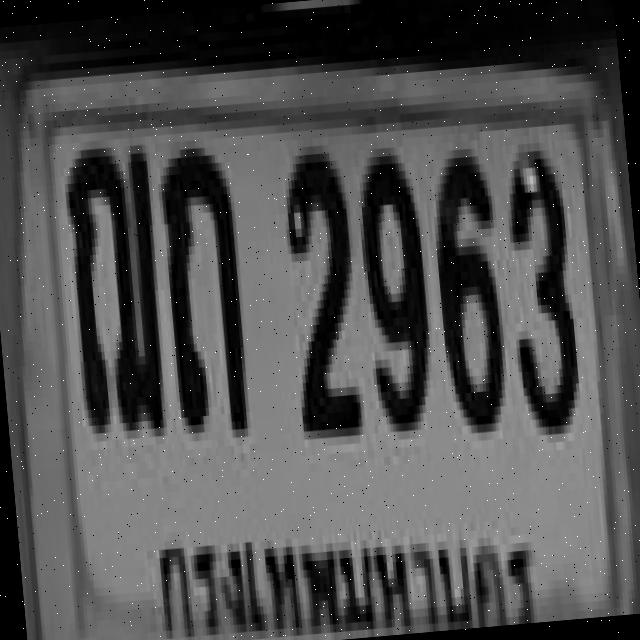2: (276, 144, 362, 432)
21ChorChoe: (56, 136, 168, 434)
3: (496, 141, 579, 429)
31ThorThung: (153, 133, 250, 430)
6: (424, 138, 508, 426)
9: (353, 146, 432, 424)
Bangkok: (142, 486, 542, 640)
